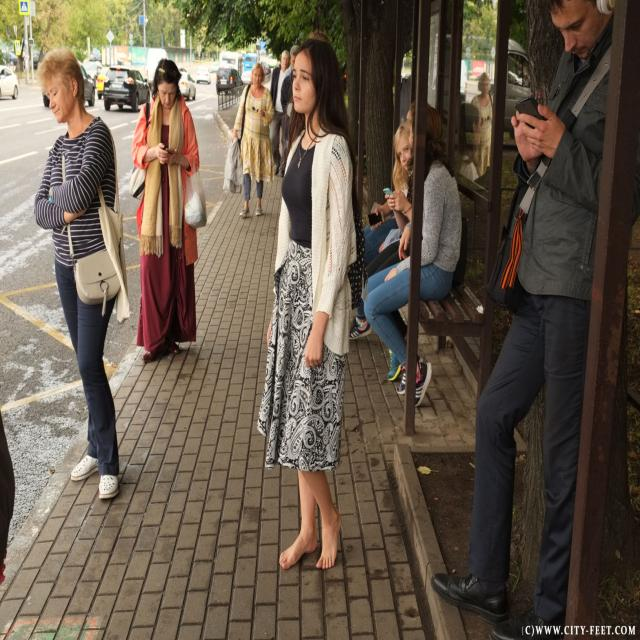Barefoots: (316, 506, 342, 570), (279, 532, 317, 570)
